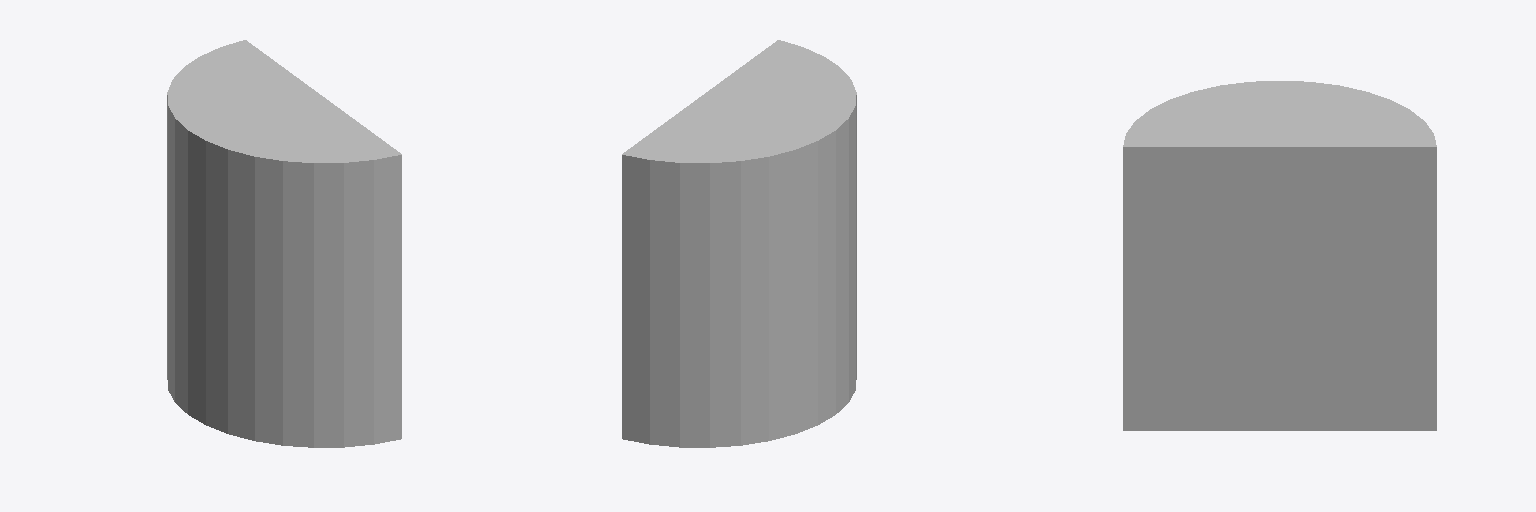
The model's file is halfCylinder.obj.
3 renders of one model, left to right at view 1: azimuth 30°, elevation 25°; view 2: azimuth 150°, elevation 25°; view 3: azimuth 270°, elevation 25°, orthographic.
Parts seen in each view (by area): view 1: Cylinder; view 2: Cylinder; view 3: Cylinder.
Boxes of the visible parts, <box> form: Cylinder: <box>167,40,401,447</box>; Cylinder: <box>622,40,856,447</box>; Cylinder: <box>1123,81,1436,430</box>.
Bounding box in the file's own units: 1 × 2 × 2.